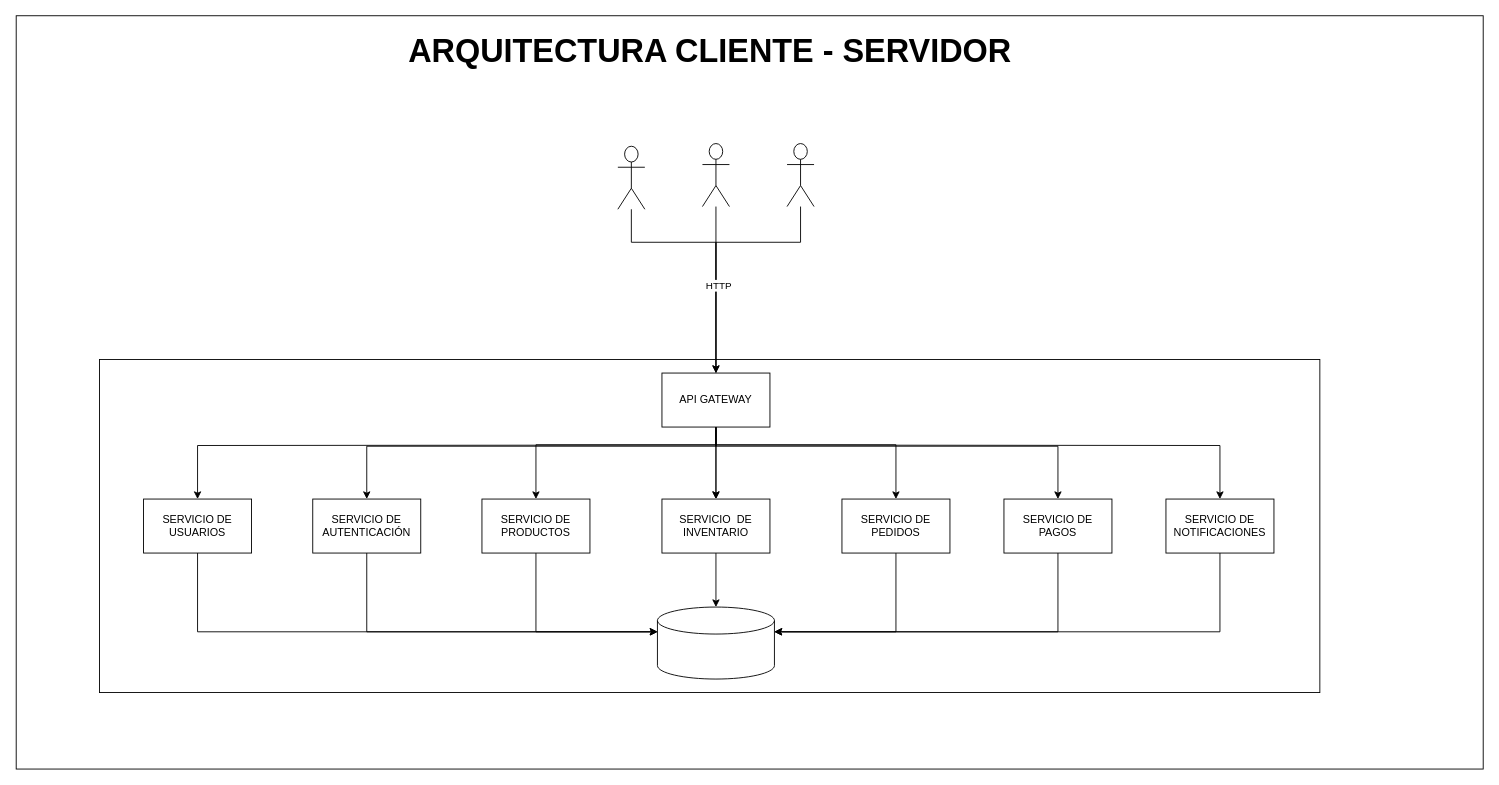
Some shapes in this 1499 by 785 pixel diagram are drawn without their labels. The shapes that lost their labels are listed below. From the top down, each one's box as (x1, y1, x2, y2) in pixels, then its label:
(617, 145, 645, 209): CLIENTE
(702, 143, 729, 207): ADMINISTRADOR
(786, 143, 814, 207): OPERADOR
(657, 606, 774, 679): BD _PIZZERIA_EXPRESS
